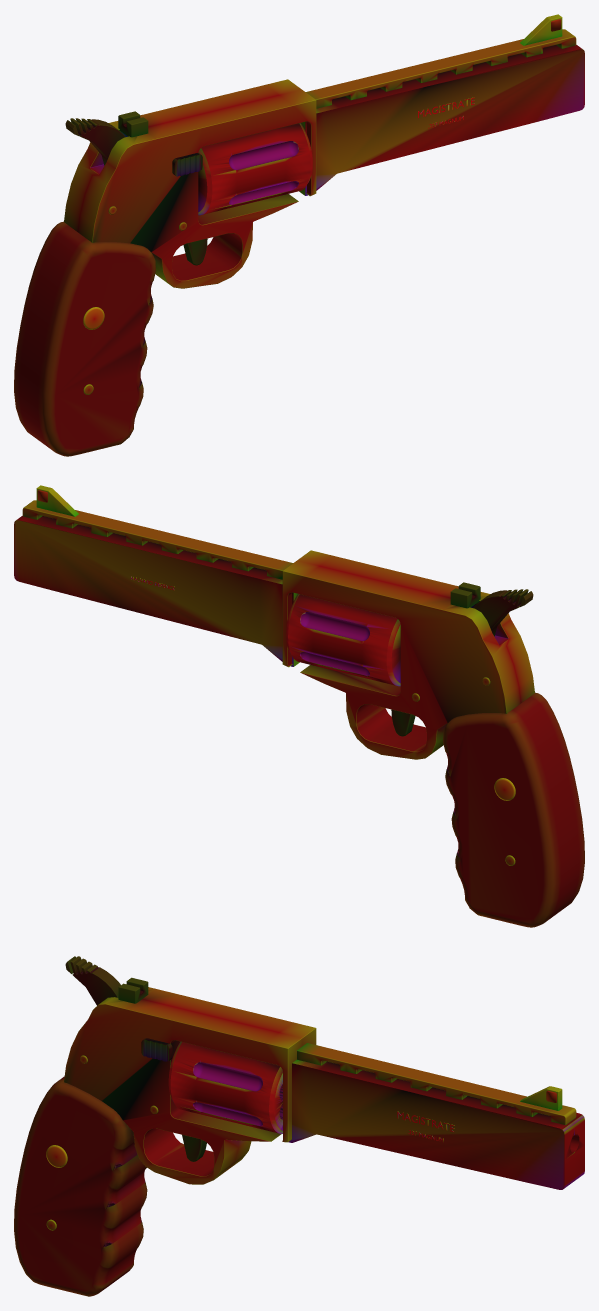
The model's file is magistrate.glb.
The picture shows the model from 3 angles, top to bottom: view 1: azimuth 30°, elevation 25°; view 2: azimuth 150°, elevation 25°; view 3: azimuth 330°, elevation 25°; orthographic projection.
Parts seen in each view (by area): view 1: base; view 2: base; view 3: base.
Boxes of the visible parts, bbox=[...] form: base: bbox=[14, 14, 584, 456]; base: bbox=[14, 485, 584, 927]; base: bbox=[14, 956, 584, 1296].
Size of the model in its own units: 0.3106 by 0.174 by 0.0413.
